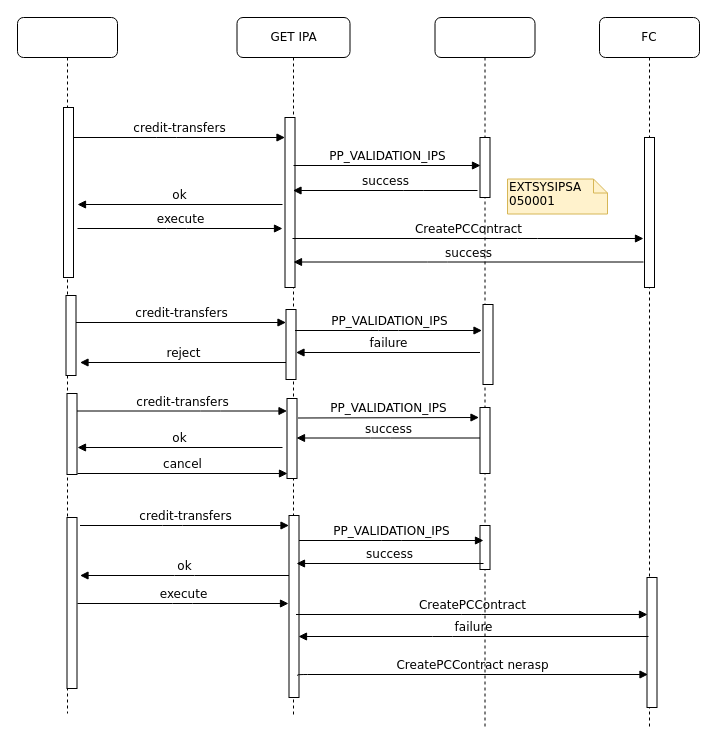
Some shapes in this 717 by 745 pixel diagram are drawn without their labels. The shapes that lost their labels are listed below. From the top down, each one's centre as x and y in pixels, then its label:
At point 67,365: "Asseco PG".
At point 484,372: "DPS".
